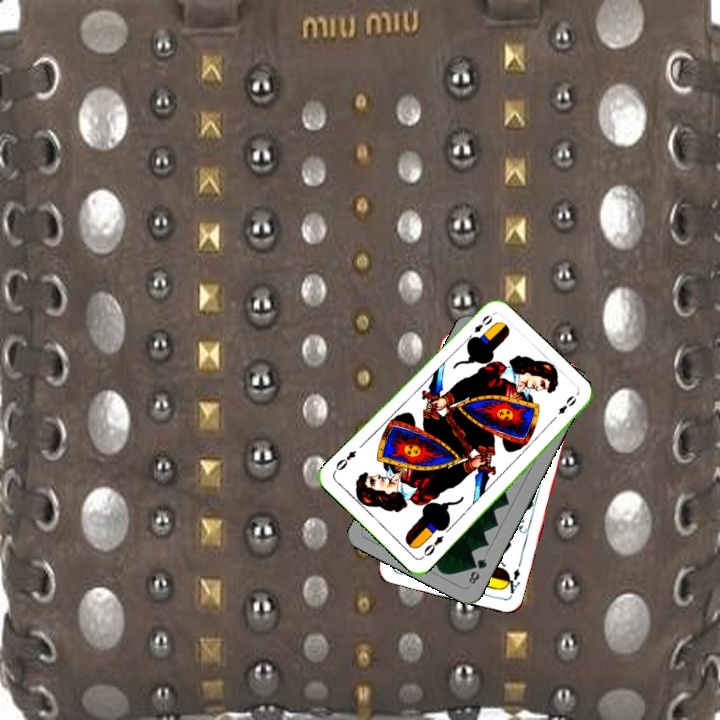EA: (500, 564, 523, 599)
EO: (463, 311, 495, 343), (418, 532, 446, 561)
G8: (464, 554, 489, 587)
